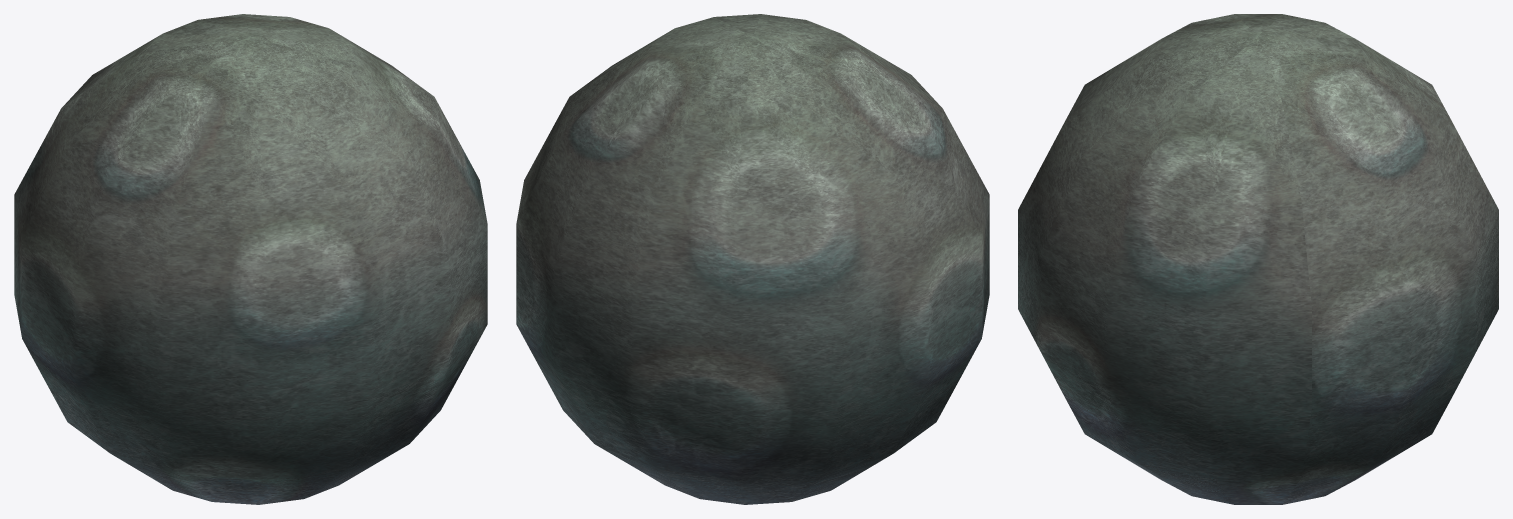
Rendered from Ball_1.FBX.
3 views of the same model, side by side, from view 1: azimuth 30°, elevation 25°; view 2: azimuth 150°, elevation 25°; view 3: azimuth 270°, elevation 25° (orthographic).
Parts seen in each view (by area): view 1: Sphere023; view 2: Sphere023; view 3: Sphere023.
Boxes of the visible parts, x1,y1,x2,y2 form: Sphere023: (14, 14, 487, 504); Sphere023: (516, 14, 989, 504); Sphere023: (1018, 14, 1498, 504).
Size of the model in its own units: 2.88 by 3.03 by 2.96.
